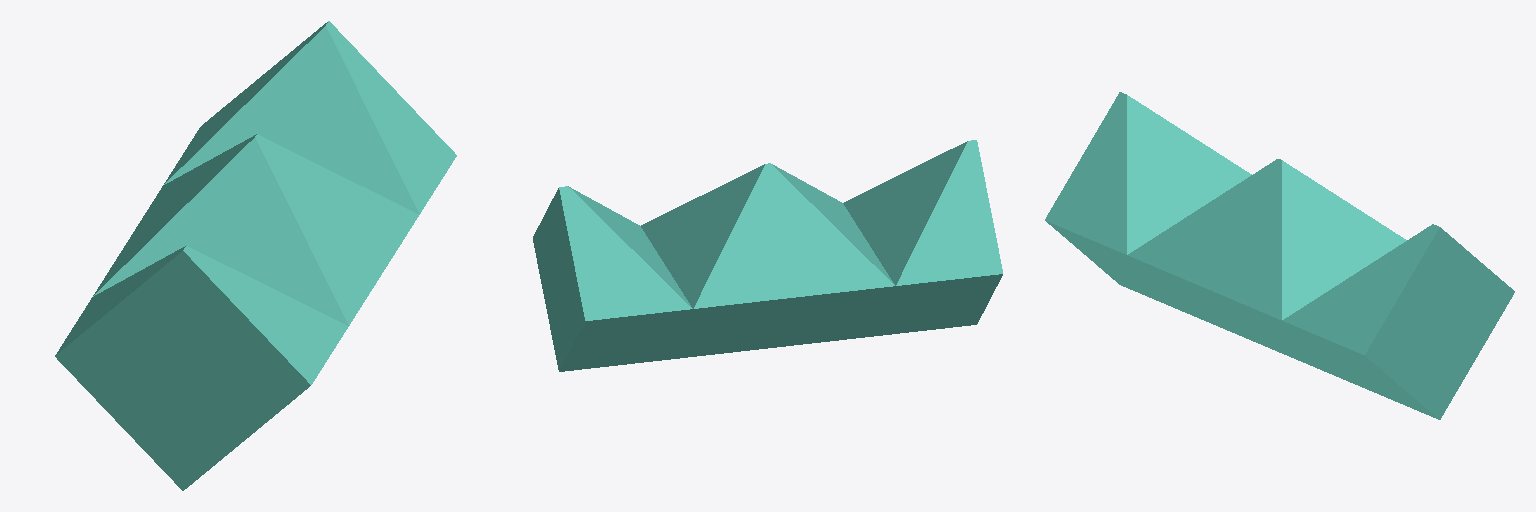
URDF robot description (obj_5):
<robot name="obj_5" version="1.0">
  <link name="link_5">
    <collision name="5-collision.001">
      <origin rpy="0.78540 -0.00000 0.78540" xyz="-0.39655 0.36270 0.15617"/>
      <geometry>
        <mesh filename="../meshes/obj/5-collision.001.obj" scale="0.00500 0.00500 0.00500"/>
      </geometry>
    </collision>
    <collision name="5-collision.002">
      <origin rpy="0.78540 -0.00000 0.78540" xyz="-0.39655 0.36270 0.15617"/>
      <geometry>
        <mesh filename="../meshes/obj/5-collision.002.obj" scale="0.00500 0.00500 0.00500"/>
      </geometry>
    </collision>
    <collision name="5-collision.003">
      <origin rpy="0.78540 -0.00000 0.78540" xyz="-0.39655 0.36270 0.15617"/>
      <geometry>
        <mesh filename="../meshes/obj/5-collision.003.obj" scale="0.00500 0.00500 0.00500"/>
      </geometry>
    </collision>
    <collision name="5-collision.004">
      <origin rpy="0.78540 -0.00000 0.78540" xyz="-0.39655 0.36270 0.15617"/>
      <geometry>
        <mesh filename="../meshes/obj/5-collision.004.obj" scale="0.00500 0.00500 0.00500"/>
      </geometry>
    </collision>
    <collision name="5-collision.005">
      <origin rpy="0.78540 -0.00000 0.78540" xyz="-0.39655 0.36270 0.15617"/>
      <geometry>
        <mesh filename="../meshes/obj/5-collision.005.obj" scale="0.00500 0.00500 0.00500"/>
      </geometry>
    </collision>
    <collision name="5-collision.006">
      <origin rpy="0.78540 -0.00000 0.78540" xyz="-0.39655 0.36270 0.15617"/>
      <geometry>
        <mesh filename="../meshes/obj/5-collision.006.obj" scale="0.00500 0.00500 0.00500"/>
      </geometry>
    </collision>
    <collision name="5-collision.007">
      <origin rpy="0.78540 -0.00000 0.78540" xyz="-0.39655 0.36270 0.15617"/>
      <geometry>
        <mesh filename="../meshes/obj/5-collision.007.obj" scale="0.00500 0.00500 0.00500"/>
      </geometry>
    </collision>
    <collision name="5-collision.008">
      <origin rpy="0.78540 -0.00000 0.78540" xyz="-0.39655 0.36270 0.15617"/>
      <geometry>
        <mesh filename="../meshes/obj/5-collision.008.obj" scale="0.00500 0.00500 0.00500"/>
      </geometry>
    </collision>
    <collision name="5-collision.009">
      <origin rpy="0.78540 -0.00000 0.78540" xyz="-0.39655 0.36270 0.15617"/>
      <geometry>
        <mesh filename="../meshes/obj/5-collision.009.obj" scale="0.00500 0.00500 0.00500"/>
      </geometry>
    </collision>
    <collision name="5-collision.010">
      <origin rpy="0.78540 -0.00000 0.78540" xyz="-0.39655 0.36270 0.15617"/>
      <geometry>
        <mesh filename="../meshes/obj/5-collision.010.obj" scale="0.00500 0.00500 0.00500"/>
      </geometry>
    </collision>
    <collision name="5-collision.011">
      <origin rpy="0.78540 -0.00000 0.78540" xyz="-0.39655 0.36270 0.15617"/>
      <geometry>
        <mesh filename="../meshes/obj/5-collision.011.obj" scale="0.00500 0.00500 0.00500"/>
      </geometry>
    </collision>
    <collision name="5-collision.012">
      <origin rpy="0.78540 -0.00000 0.78540" xyz="-0.39655 0.36270 0.15617"/>
      <geometry>
        <mesh filename="../meshes/obj/5-collision.012.obj" scale="0.00500 0.00500 0.00500"/>
      </geometry>
    </collision>
    <collision name="5-collision.013">
      <origin rpy="0.78540 -0.00000 0.78540" xyz="-0.39655 0.36270 0.15617"/>
      <geometry>
        <mesh filename="../meshes/obj/5-collision.013.obj" scale="0.00500 0.00500 0.00500"/>
      </geometry>
    </collision>
    <collision name="5-collision.014">
      <origin rpy="0.78540 -0.00000 0.78540" xyz="-0.39655 0.36270 0.15617"/>
      <geometry>
        <mesh filename="../meshes/obj/5-collision.014.obj" scale="0.00500 0.00500 0.00500"/>
      </geometry>
    </collision>
    <inertial>
      <inertia ixx="0.00012" ixy="-0.00007" ixz="-0.00000" iyy="0.00012" iyz="-0.00000" izz="0.00018"/>
      <origin rpy="0.00000 0.00000 0.00000" xyz="-0.39656 0.36270 0.10652"/>
      <mass value="0.01000"/>
    </inertial>
    <visual name="5">
      <material name="turnarrow"/>
      <origin rpy="0.78540 -0.00000 0.78540" xyz="-0.39655 0.36270 0.15617"/>
      <geometry>
        <mesh filename="../meshes/obj/6 part puzzle cube.004.obj" scale="0.00500 0.00500 0.00500"/>
      </geometry>
    </visual>
  </link>
  <material name="turnarrow">
    <color rgba="0.44314 0.80000 0.74118 1.00000"/>
  </material>
</robot>

--- Render facts (derived) ---
3 views of the same robot in one strip: view 1: azimuth 30°, elevation 25°; view 2: azimuth 150°, elevation 25°; view 3: azimuth 270°, elevation 25° (orthographic).
Robot: obj_5 — 1 links, 0 joints (none); root link link_5; default pose: all joints at 0.
Visible links, largest first — view 1: link_5; view 2: link_5; view 3: link_5.
Link boxes in pixels (left/top/right/bottom): link_5: left=55, top=21, right=456, bottom=490; link_5: left=533, top=140, right=1002, bottom=371; link_5: left=1045, top=92, right=1514, bottom=419.
Bounding box of the posed robot: 0.4682 × 0.4682 × 0.2121 m (x, y, z).
1 mesh visuals loaded from 1 distinct referenced files (1 OBJ).